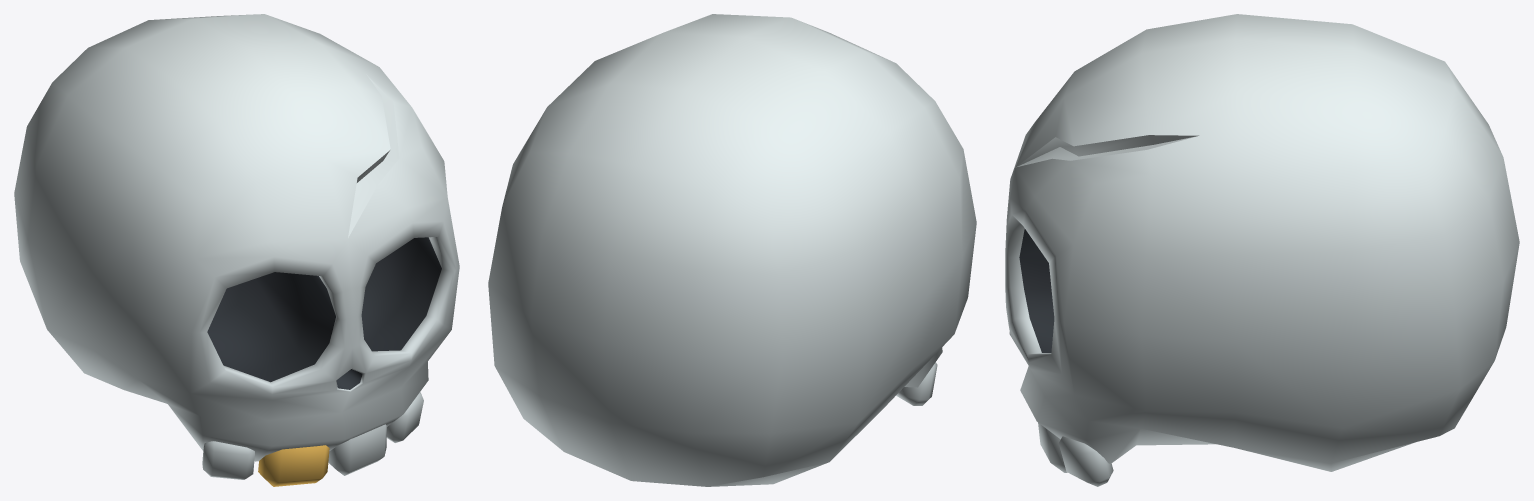
Rendered from skull_head_02.fbx.
3 views of the same model, side by side, from view 1: azimuth 30°, elevation 25°; view 2: azimuth 150°, elevation 25°; view 3: azimuth 270°, elevation 25° (orthographic). The views are drawn at different scales.
Parts seen in each view (by area): view 1: skull_head_02; view 2: skull_head_02; view 3: skull_head_02.
Boxes of the visible parts, left/top/right/bottom form: skull_head_02: left=14, top=14, right=459, bottom=486; skull_head_02: left=488, top=14, right=976, bottom=486; skull_head_02: left=1005, top=14, right=1519, bottom=486.
Size of the model in its own units: 0.3317 by 0.3519 by 0.3996.
Materials: 3 (3 with a texture image).
